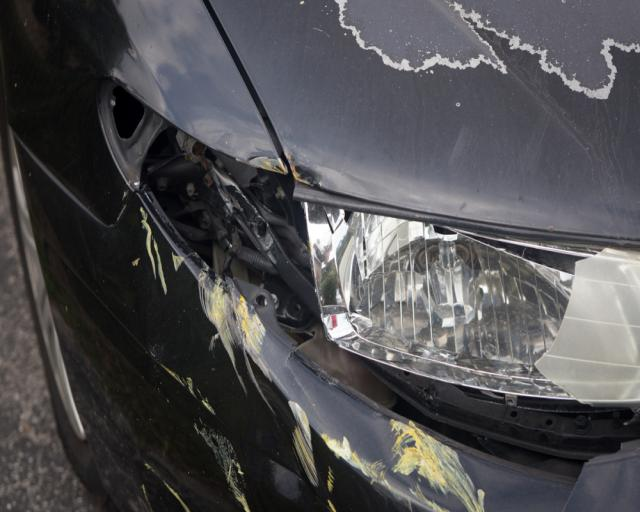lamp broken: (302, 200, 640, 409)
scratch: (134, 210, 492, 512)
